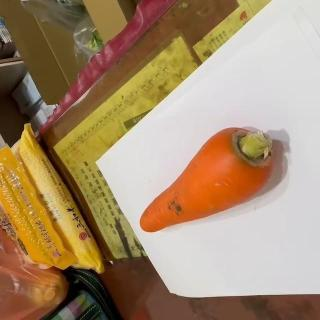carrot: (138, 128, 276, 233)
